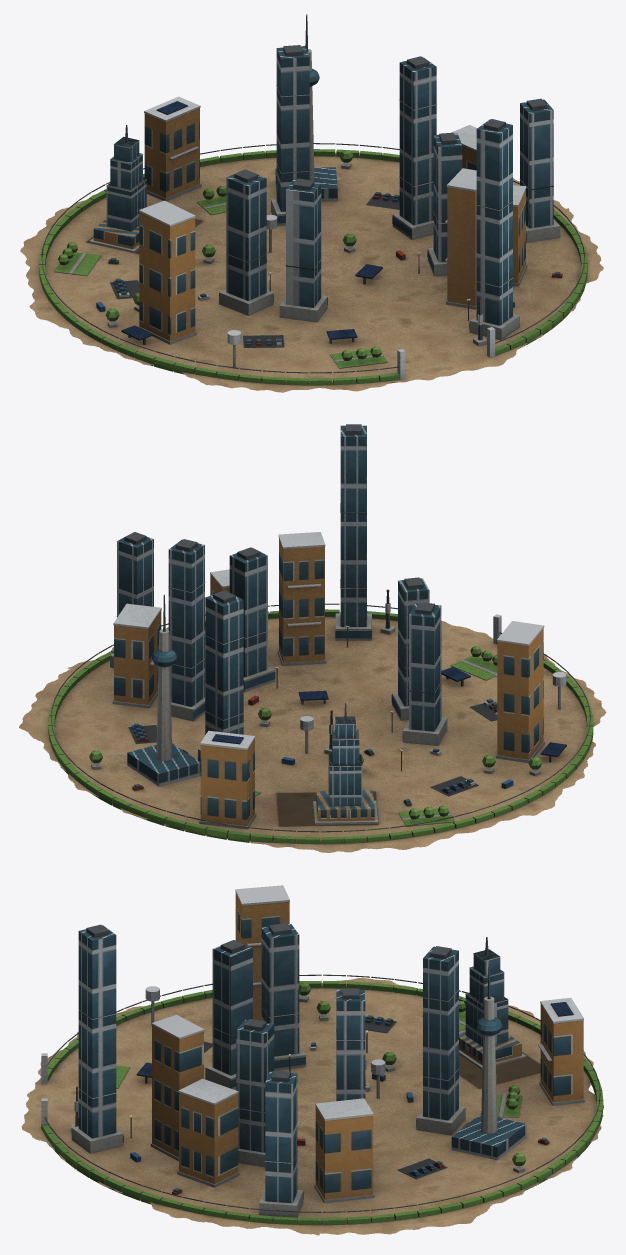
File: information-town-medium-b-indic.glb
3 views of the same model, one above another, from view 1: azimuth 30°, elevation 25°; view 2: azimuth 150°, elevation 25°; view 3: azimuth 270°, elevation 25° (orthographic). The views are drawn at different scales.
Parts seen in each view (by area): view 1: LOD0; view 2: LOD0; view 3: LOD0.
Part boxes in pixels (x1=…): LOD0: x1=20, y1=14, x2=603, y2=392; LOD0: x1=19, y1=424, x2=606, y2=852; LOD0: x1=21, y1=885, x2=603, y2=1235.
Size of what is drawn, in the model's own units: 6.01 by 2.3 by 5.76.
3 materials, 3 textured.
